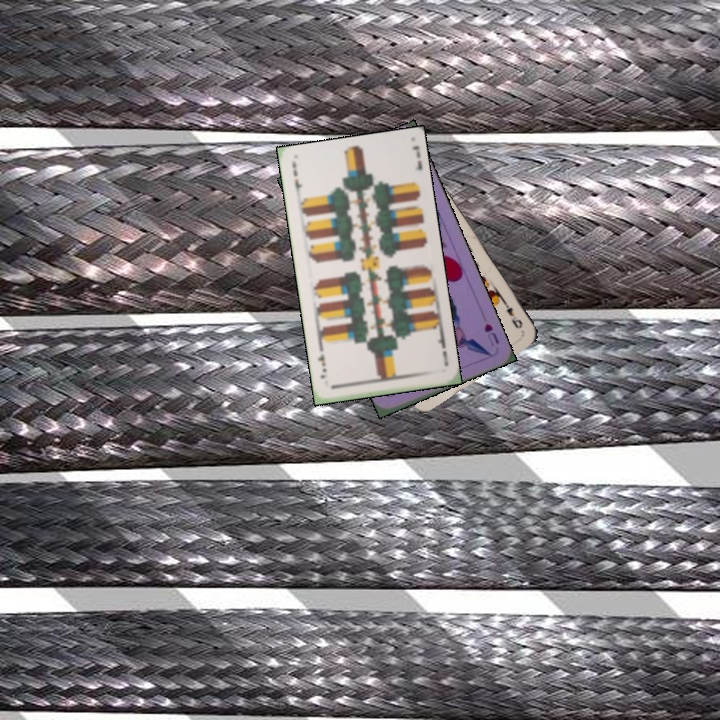E7: (433, 329, 451, 369), (288, 160, 304, 200)
E9: (498, 296, 525, 331)
HU: (480, 319, 502, 346)
